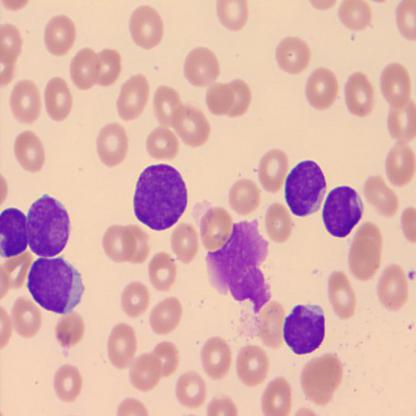Blast: (131, 161, 190, 233), (26, 254, 87, 317), (25, 190, 71, 260), (284, 157, 329, 219), (321, 183, 366, 240), (282, 300, 327, 356)
